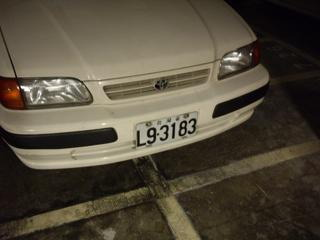plate: (134, 114, 197, 149)
